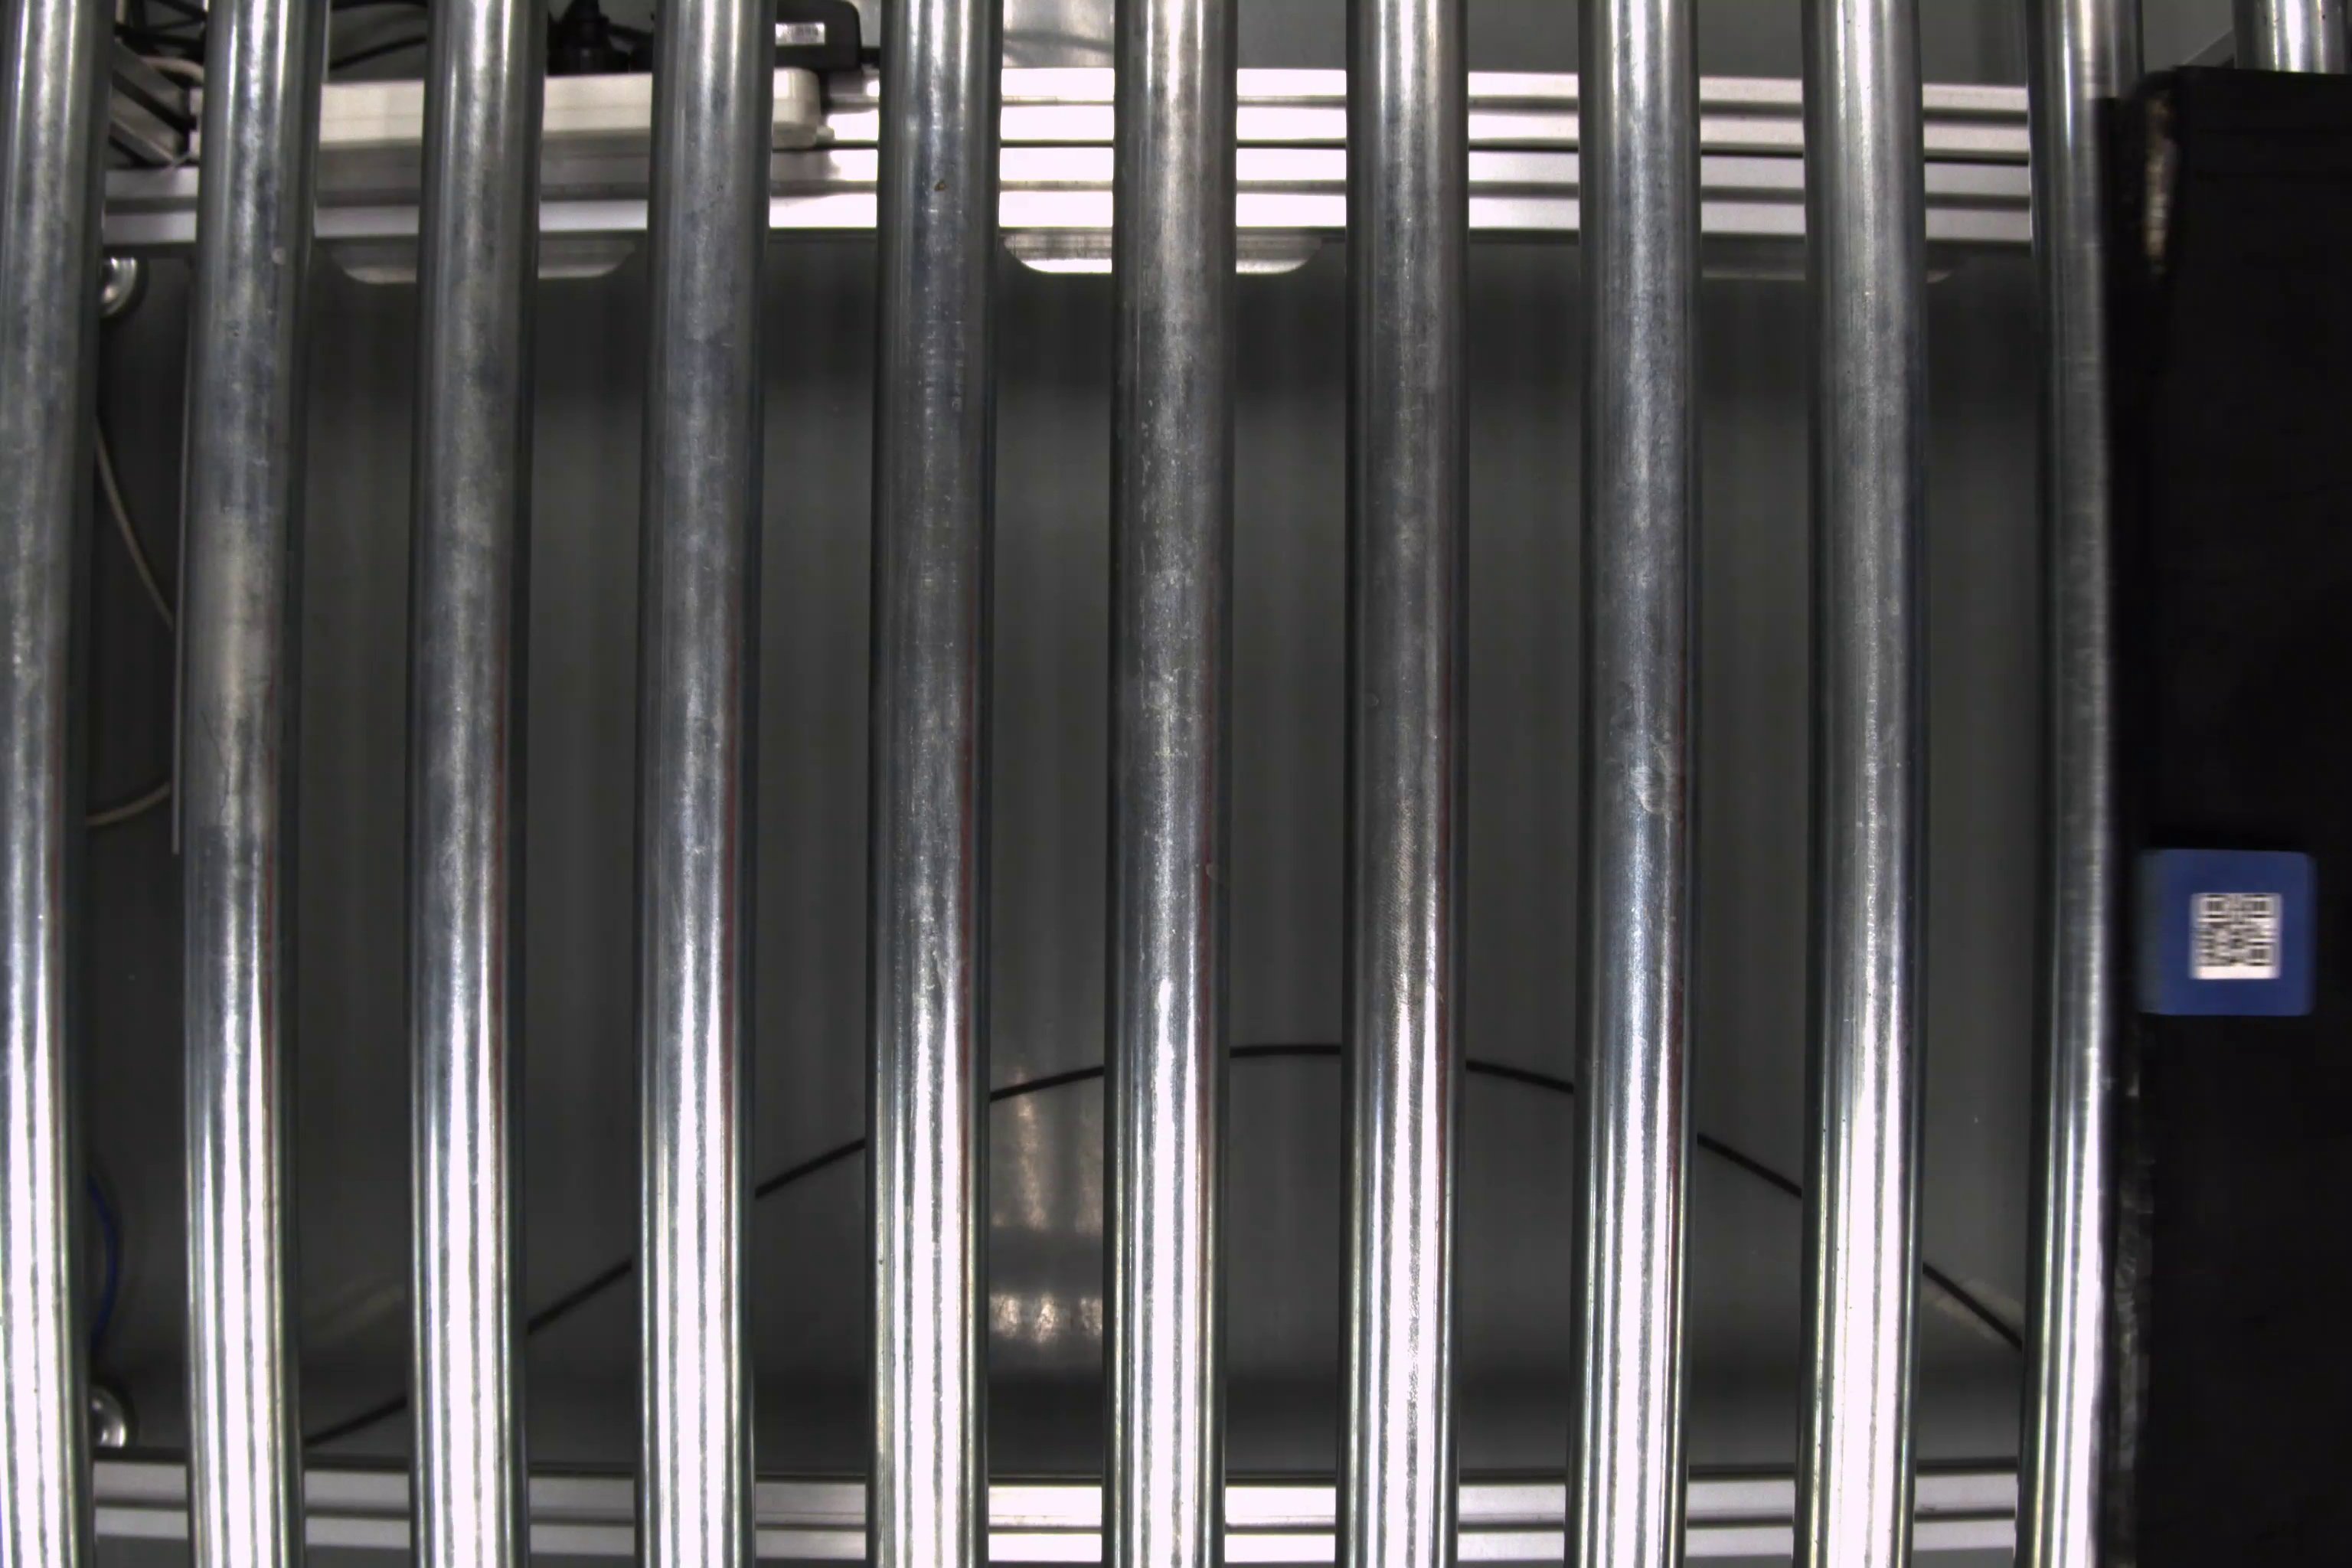wood: (2137, 845, 2320, 1015)
